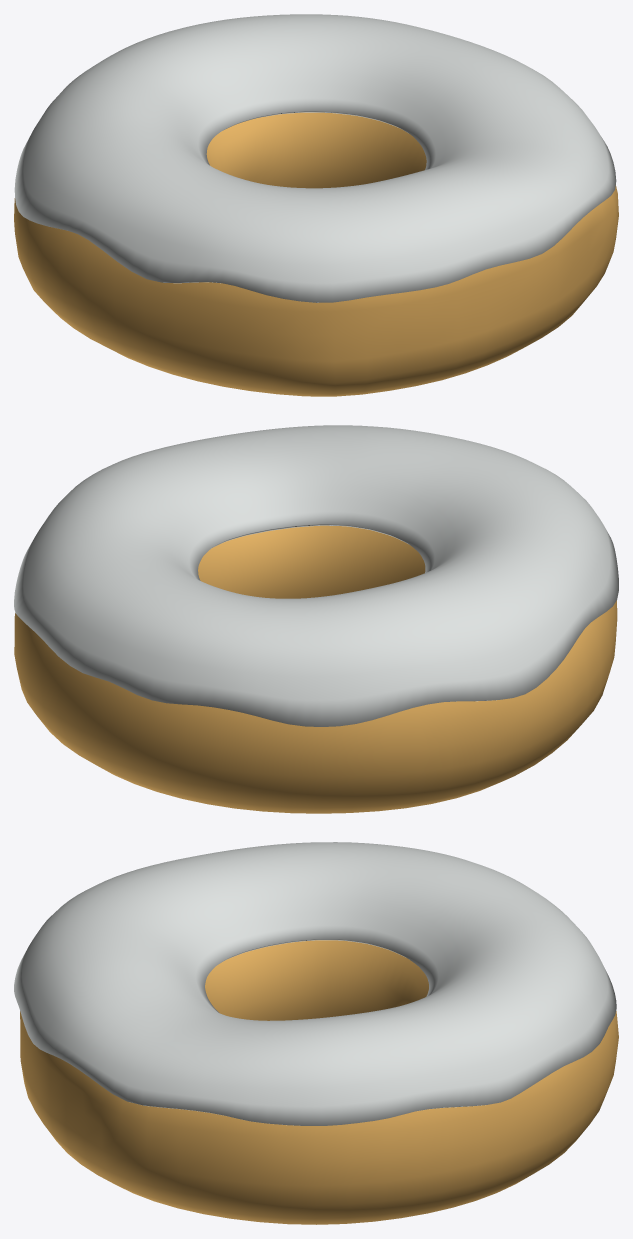
3 renders of one model, top to bottom at view 1: azimuth 30°, elevation 25°; view 2: azimuth 150°, elevation 25°; view 3: azimuth 270°, elevation 25°, orthographic. The views are drawn at different scales.
Parts seen in each view (by area): view 1: Object_14; view 2: Object_14; view 3: Object_14.
Part boxes in pixels (x1=…): Object_14: x1=14, y1=14, x2=618, y2=396; Object_14: x1=14, y1=425, x2=618, y2=813; Object_14: x1=14, y1=842, x2=618, y2=1224.
Size of the model in its own units: 59.11 by 21.49 by 59.62.
